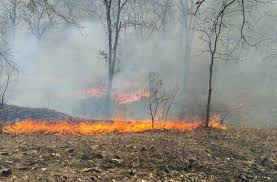fire: (7, 119, 228, 133)
smoke: (14, 25, 274, 120)
